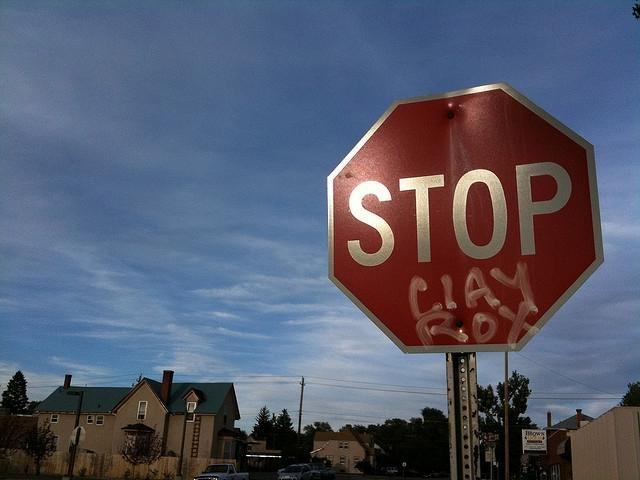car: (192, 463, 249, 480), (278, 461, 310, 480)
